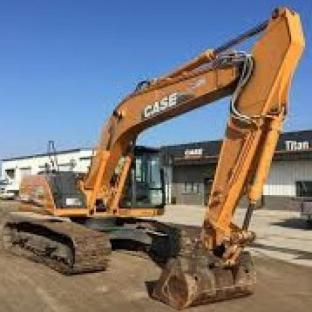ExcavationMachinery: (29, 43, 278, 312)
